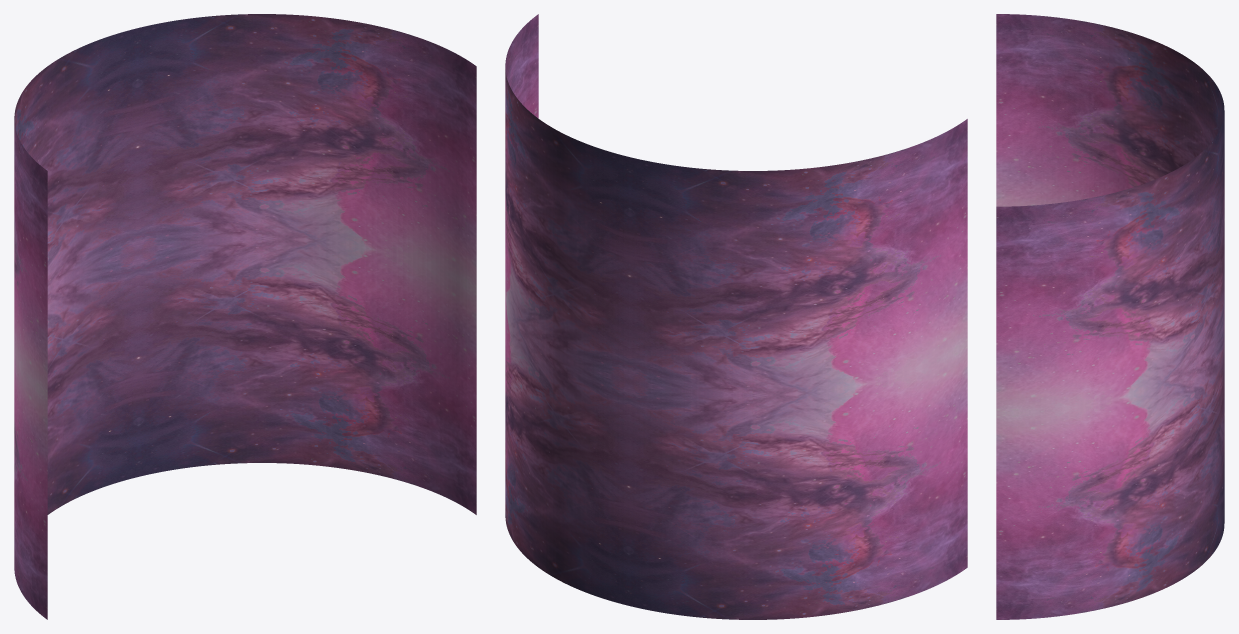
File: background.fbx
3 renders of one model, left to right at view 1: azimuth 30°, elevation 25°; view 2: azimuth 150°, elevation 25°; view 3: azimuth 270°, elevation 25°, orthographic. The views are drawn at different scales.
Parts seen in each view (by area): view 1: Circle; view 2: Circle; view 3: Circle.
Boxes of the visible parts, left/top/right/bottom form: Circle: left=14, top=14, right=476, bottom=619; Circle: left=505, top=14, right=967, bottom=619; Circle: left=996, top=14, right=1224, bottom=619.
Size of the model in its own units: 200 by 200 by 100.
